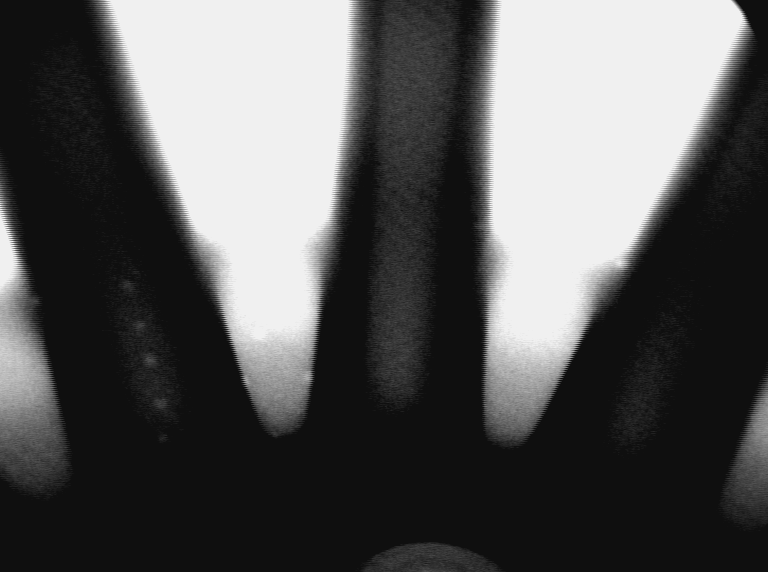defect: (27, 292, 47, 308)
